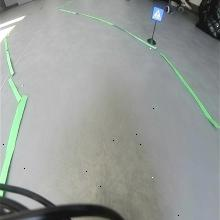crosswalk: (152, 6, 164, 22)
